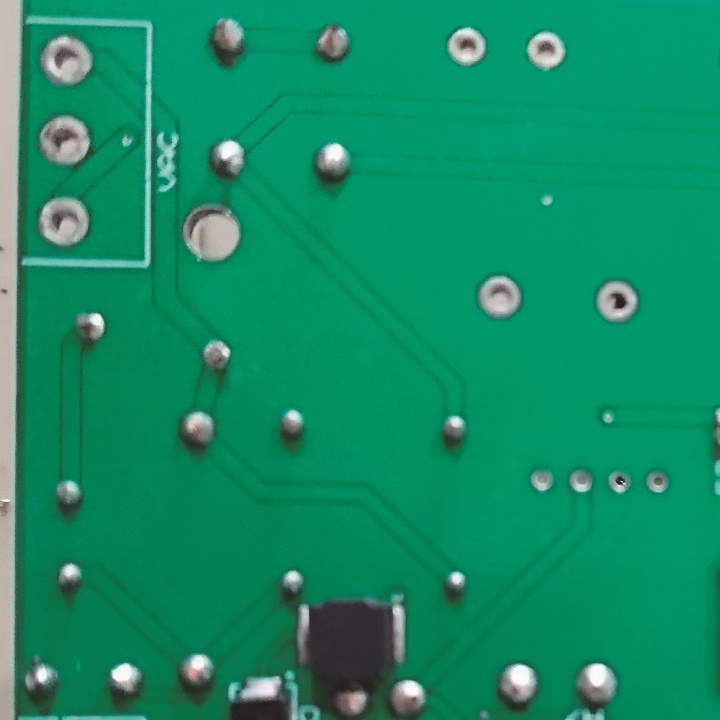F: (37, 112, 92, 170), (36, 33, 95, 85), (36, 196, 93, 248), (473, 273, 530, 324), (594, 278, 642, 327), (526, 27, 569, 78), (445, 25, 489, 70), (527, 464, 556, 495), (567, 466, 596, 495), (644, 468, 670, 498), (607, 467, 632, 497)
